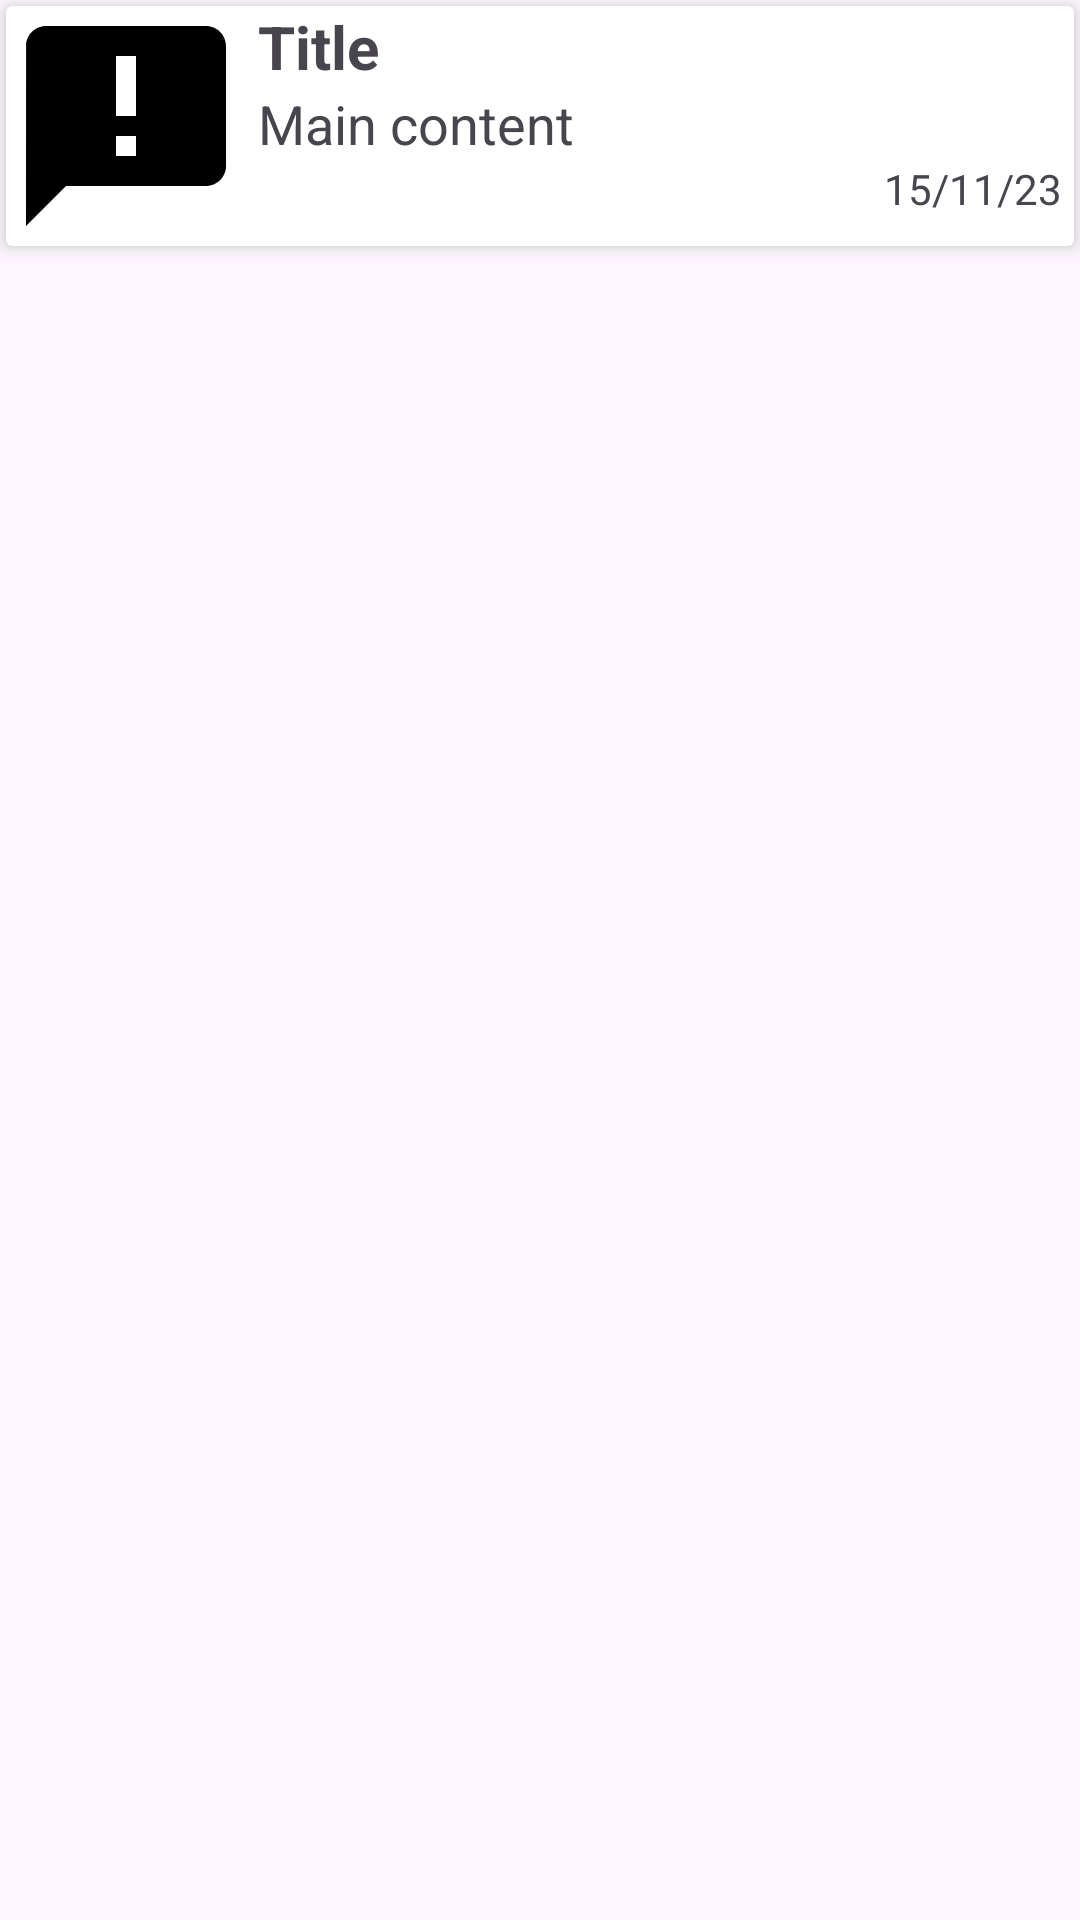

Point at icon controls on the screen. Image size 1080x1920, points as (x,y).
notification: (126,126)
